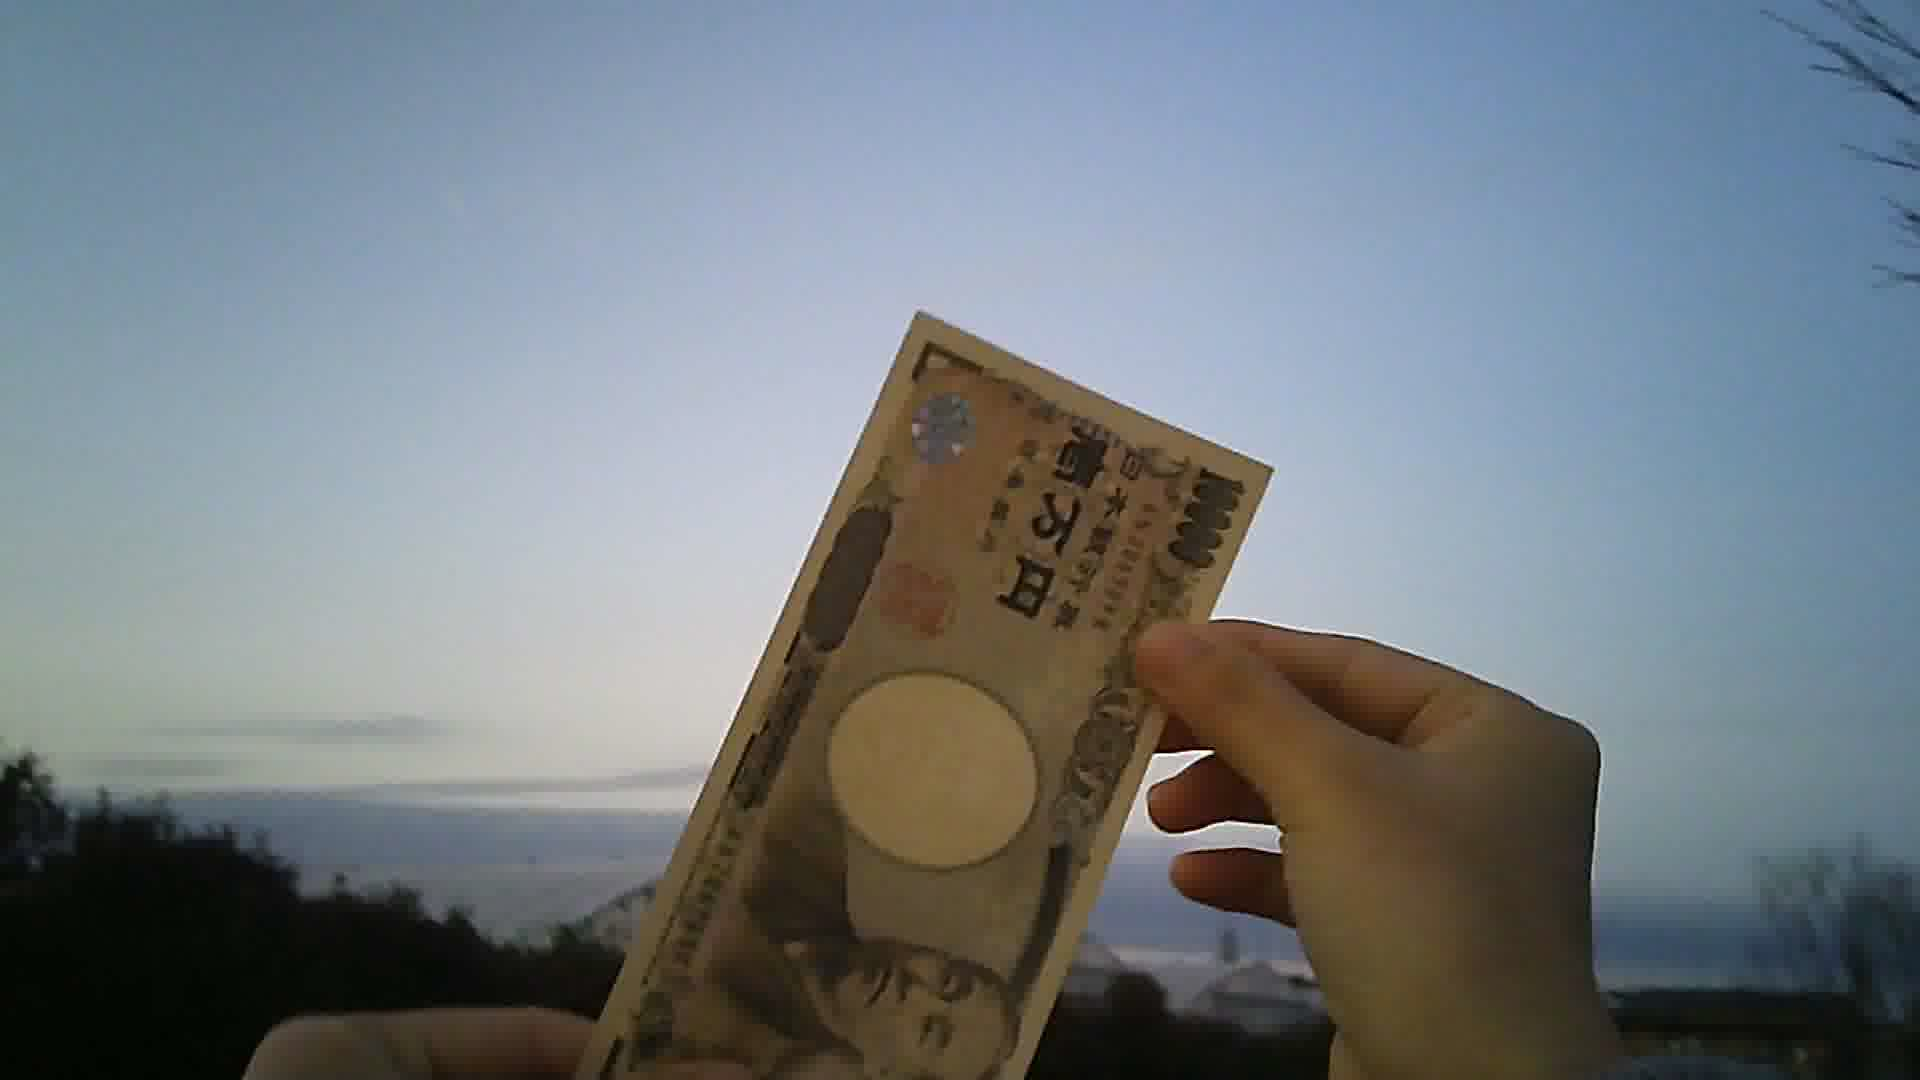10,000 Yen: (556, 286, 1300, 1063)
